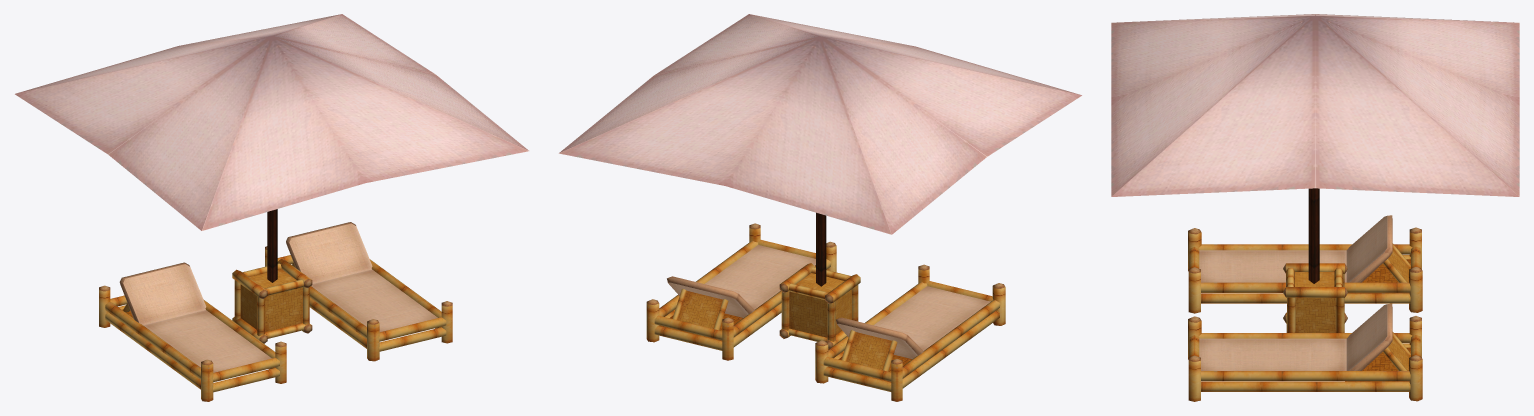
The model's file is SC_HDjianzhu05.FBX.
The picture shows the model from 3 angles, left to right: view 1: azimuth 30°, elevation 25°; view 2: azimuth 150°, elevation 25°; view 3: azimuth 270°, elevation 25°; orthographic projection. The views are drawn at different scales.
Parts seen in each view (by area): view 1: SC_HDjianzhu05; view 2: SC_HDjianzhu05; view 3: SC_HDjianzhu05.
Part boxes in pixels (<box>): SC_HDjianzhu05: <box>15,14,529,401</box>; SC_HDjianzhu05: <box>558,14,1081,401</box>; SC_HDjianzhu05: <box>1111,14,1519,401</box>.
Bounding box in the file's own units: 147 × 126 × 146.
